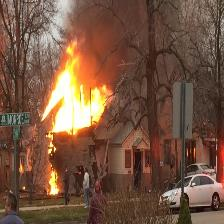fire: (50, 75, 105, 126), (46, 138, 61, 197), (63, 39, 80, 72)
smoke: (83, 4, 129, 67)
